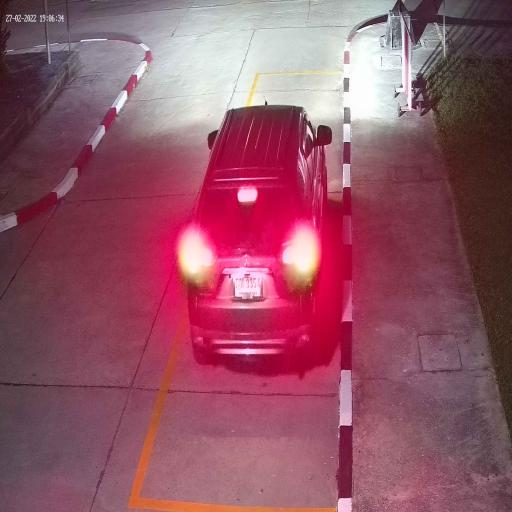car: (187, 104, 328, 368)
